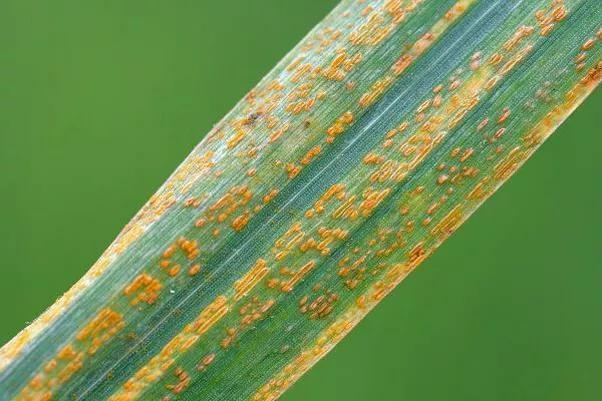Leaf Rust: (113, 44, 523, 354)
